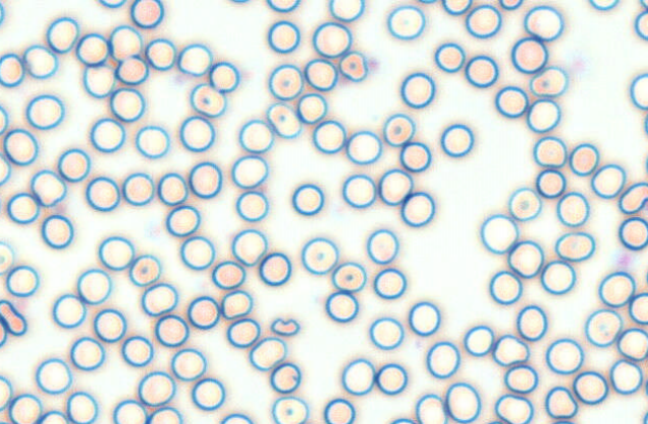PLT: (366, 56, 381, 72)
RBC: (479, 213, 518, 254), (444, 382, 481, 423), (584, 308, 622, 347), (300, 236, 338, 275), (523, 5, 564, 41), (545, 337, 584, 374), (312, 21, 352, 57), (507, 240, 544, 278), (137, 370, 176, 406), (386, 4, 425, 40), (35, 357, 72, 394), (598, 270, 635, 307), (510, 36, 547, 73), (231, 228, 267, 266), (248, 336, 287, 371), (25, 94, 64, 129), (30, 169, 66, 206), (179, 115, 215, 152), (425, 340, 460, 378), (540, 259, 576, 295), (266, 102, 302, 138), (3, 128, 38, 165), (378, 168, 413, 205), (268, 63, 303, 100), (400, 71, 435, 108), (341, 357, 375, 395), (230, 155, 268, 189), (554, 231, 595, 262), (109, 87, 145, 122), (590, 163, 626, 198), (400, 191, 435, 227), (98, 235, 134, 270), (179, 235, 215, 270), (238, 118, 274, 153), (141, 282, 178, 316), (189, 83, 226, 117), (188, 161, 222, 198), (529, 65, 568, 97), (85, 176, 120, 211), (90, 117, 125, 152), (22, 44, 58, 78), (572, 370, 608, 404), (170, 347, 206, 381), (77, 268, 111, 304), (465, 4, 501, 38), (346, 130, 382, 164), (46, 16, 79, 53), (52, 293, 86, 328), (70, 336, 105, 370), (369, 316, 404, 350), (526, 98, 560, 133), (342, 173, 376, 208), (135, 124, 170, 158), (109, 24, 142, 60), (609, 358, 642, 394), (556, 191, 589, 227), (366, 228, 399, 264), (492, 334, 529, 366), (494, 393, 533, 423), (544, 385, 578, 419), (75, 32, 109, 66), (464, 54, 498, 88), (312, 119, 346, 153), (440, 123, 474, 157), (154, 314, 189, 347), (258, 251, 291, 286), (177, 43, 212, 76), (165, 204, 200, 237), (408, 300, 440, 336), (516, 304, 547, 341), (82, 65, 116, 98), (489, 270, 522, 304), (93, 308, 126, 342), (191, 377, 225, 410), (508, 187, 541, 221), (187, 295, 220, 329), (57, 148, 90, 182), (304, 58, 338, 91), (494, 85, 528, 118), (382, 112, 415, 146), (41, 214, 73, 249), (532, 136, 567, 168), (6, 264, 39, 297), (267, 20, 300, 53), (122, 172, 154, 206), (331, 261, 366, 292), (128, 254, 161, 286), (6, 192, 39, 224), (375, 362, 407, 395), (325, 290, 358, 322), (373, 267, 406, 299), (291, 183, 324, 215), (226, 317, 260, 348), (568, 142, 599, 176), (235, 190, 269, 221), (271, 395, 308, 423), (66, 391, 98, 423), (121, 335, 153, 367), (157, 172, 188, 205), (8, 393, 42, 423), (503, 364, 538, 393), (269, 362, 301, 393), (463, 324, 494, 356), (145, 38, 176, 70), (296, 92, 327, 124), (399, 141, 431, 172), (115, 55, 148, 85), (617, 327, 647, 360), (220, 289, 253, 319), (211, 260, 245, 289), (618, 216, 647, 250), (209, 61, 240, 92), (130, 0, 164, 28), (415, 393, 446, 423), (535, 168, 566, 198), (434, 42, 465, 72), (0, 52, 25, 87), (112, 399, 147, 423), (323, 397, 355, 423), (328, 0, 364, 22), (629, 73, 647, 110), (146, 406, 183, 423), (628, 292, 647, 324), (0, 240, 14, 274), (441, 0, 472, 15), (0, 375, 12, 411), (265, 0, 300, 12), (37, 410, 68, 423), (634, 10, 647, 40), (219, 412, 253, 423), (0, 153, 11, 185), (588, 0, 619, 10), (498, 0, 523, 10), (0, 104, 8, 135), (98, 0, 126, 8), (0, 407, 12, 423), (0, 320, 7, 347), (389, 417, 416, 423), (483, 418, 507, 424), (550, 419, 575, 424), (643, 112, 648, 135), (0, 2, 5, 25), (644, 153, 648, 175), (639, 0, 648, 9), (417, 0, 437, 4), (642, 410, 647, 423), (229, 0, 250, 3)
Schistocyte: (0, 298, 28, 337), (620, 181, 648, 214), (339, 53, 369, 82), (271, 318, 299, 336)
